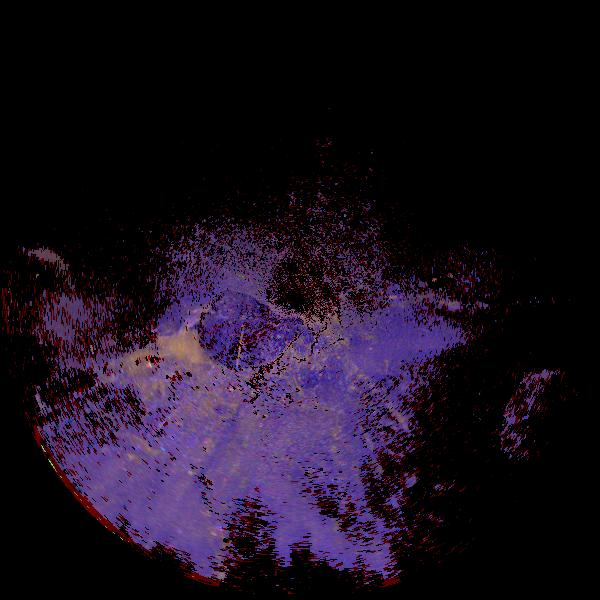roost: (110, 300, 230, 420)
